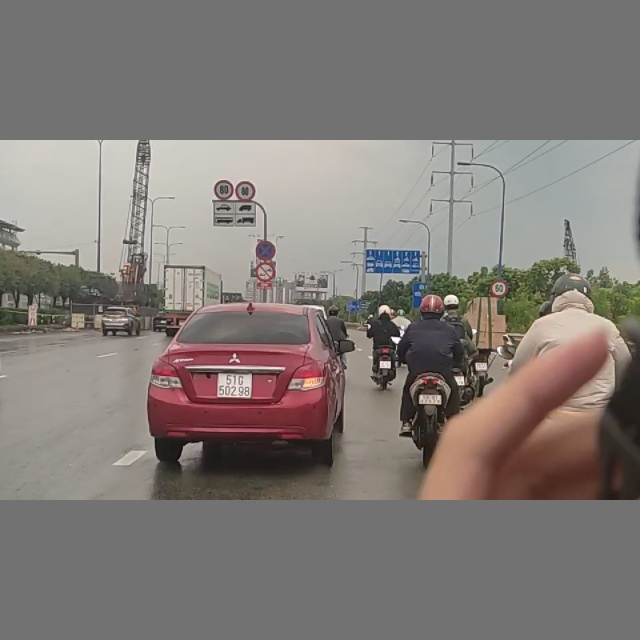P.127*60: (235, 181, 255, 201)
P.127*80: (213, 180, 234, 200)
P.130: (255, 240, 276, 260)
